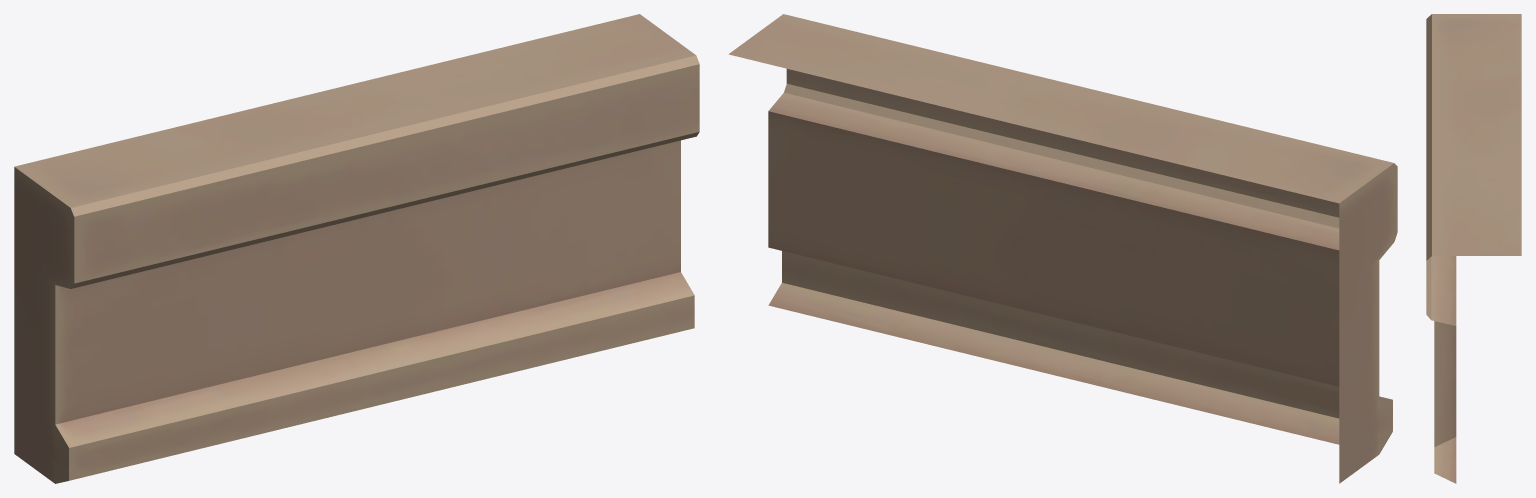
File: WallPanel (12).fbx
3 renders of one model, left to right at view 1: azimuth 30°, elevation 25°; view 2: azimuth 150°, elevation 25°; view 3: azimuth 270°, elevation 25°, orthographic. The views are drawn at different scales.
Parts seen in each view (by area): view 1: WallPanel (12); view 2: WallPanel (12); view 3: WallPanel (12).
Part boxes in pixels (box(x1,y1,x2,y2)): WallPanel (12): box(14, 14, 699, 483); WallPanel (12): box(728, 14, 1397, 483); WallPanel (12): box(1426, 14, 1521, 483).
Bounding box in the file's own units: 325 × 143 × 53.95.
Materials: 1 (1 with a texture image).
